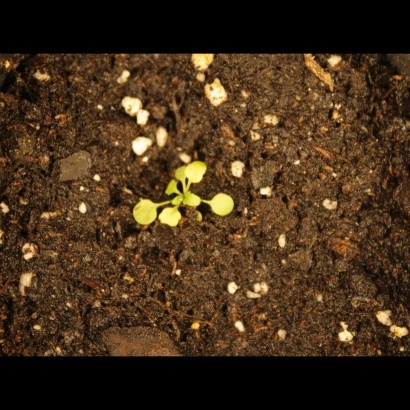leaf: (130, 196, 160, 229), (208, 191, 239, 219), (160, 205, 184, 232), (185, 160, 208, 183), (182, 189, 205, 212), (158, 176, 181, 199), (166, 158, 189, 181)
